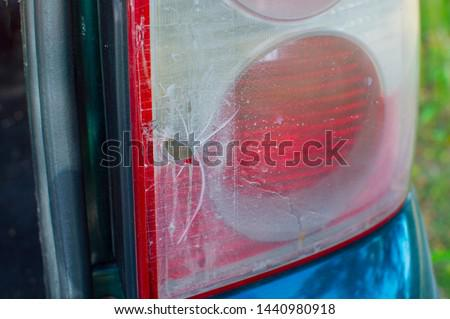Taillight-Damage: (134, 42, 261, 265)
